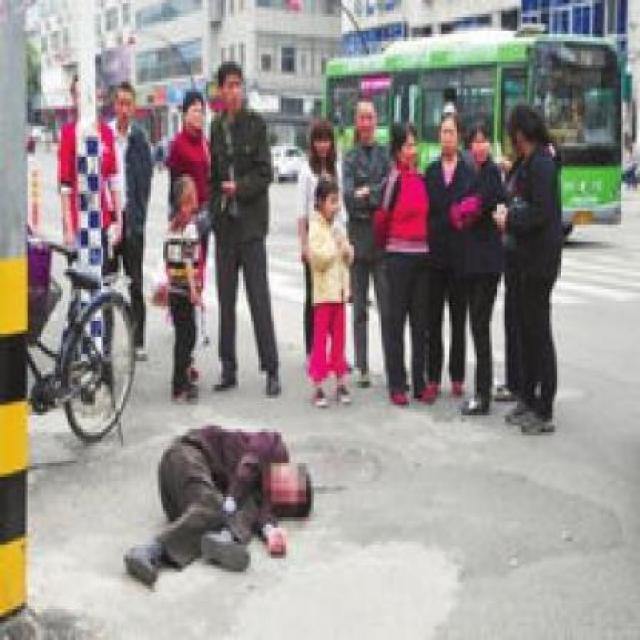fall: (110, 395, 316, 582)
